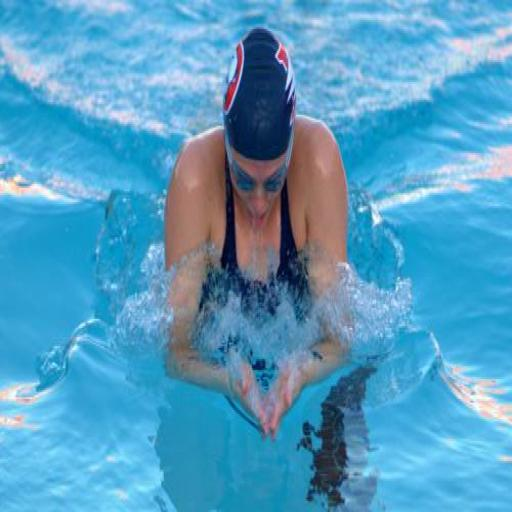swimming: (160, 24, 355, 444)
